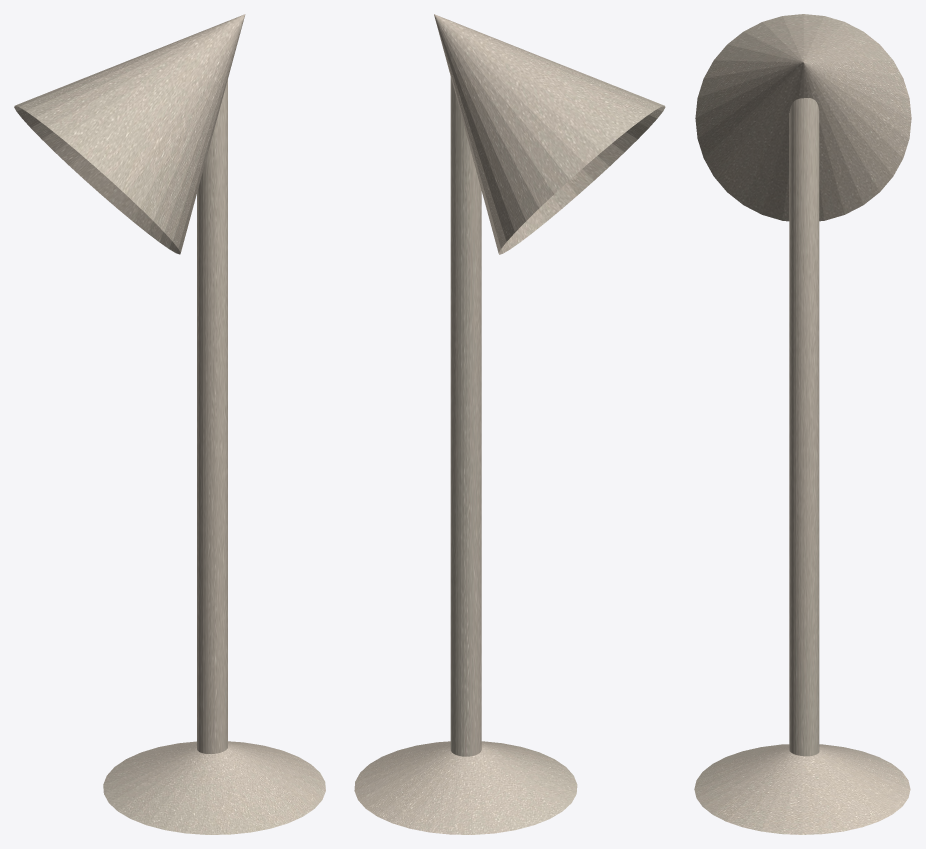
The model's file is TallLamp.glb.
3 views of the same model, side by side, from view 1: azimuth 30°, elevation 25°; view 2: azimuth 150°, elevation 25°; view 3: azimuth 270°, elevation 25° (orthographic). The views are drawn at different scales.
Parts seen in each view (by area): view 1: Cone.001, Cylinder, Cone; view 2: Cone.001, Cylinder, Cone; view 3: Cone.001, Cylinder, Cone.
Boxes of the visible parts, left/top/right/bottom form: Cone.001: left=14, top=14, right=245, bottom=254; Cylinder: left=197, top=79, right=227, bottom=753; Cone: left=103, top=741, right=325, bottom=834; Cone.001: left=434, top=14, right=665, bottom=254; Cylinder: left=450, top=77, right=481, bottom=756; Cone: left=354, top=741, right=577, bottom=834; Cone.001: left=695, top=14, right=911, bottom=221; Cylinder: left=789, top=98, right=819, bottom=756; Cone: left=694, top=744, right=910, bottom=834.
Bounding box in the file's own units: 2.85 × 7.57 × 2.01.
3 materials, 3 textured.
